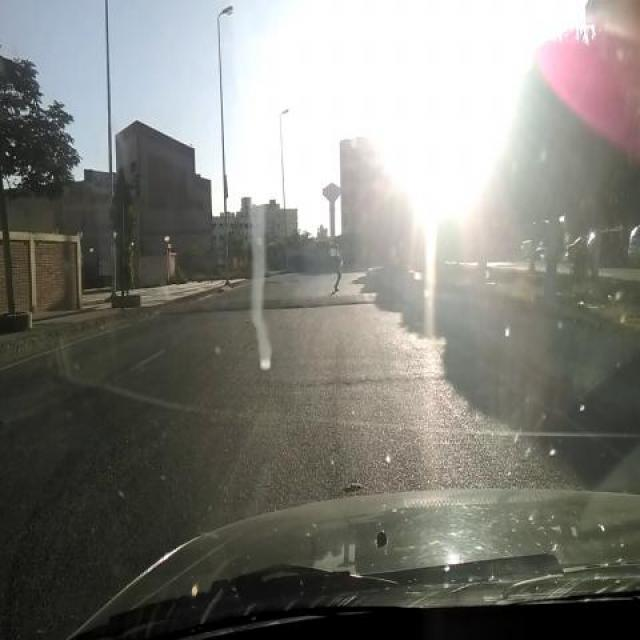Pothole: (342, 479, 366, 495)
Unmarked Bump: (159, 292, 397, 316)
